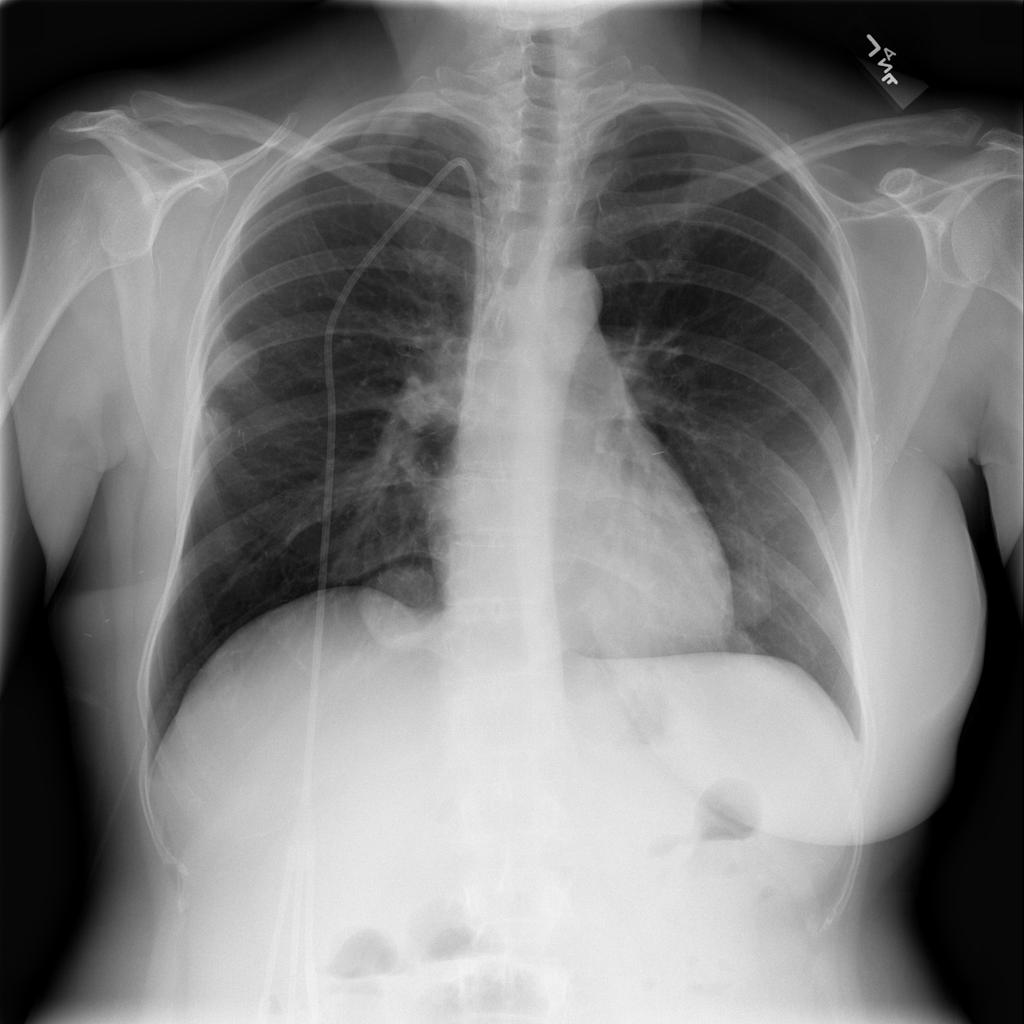nodule: (351, 544, 456, 656), (713, 550, 788, 629), (199, 325, 272, 401), (191, 400, 242, 450)
